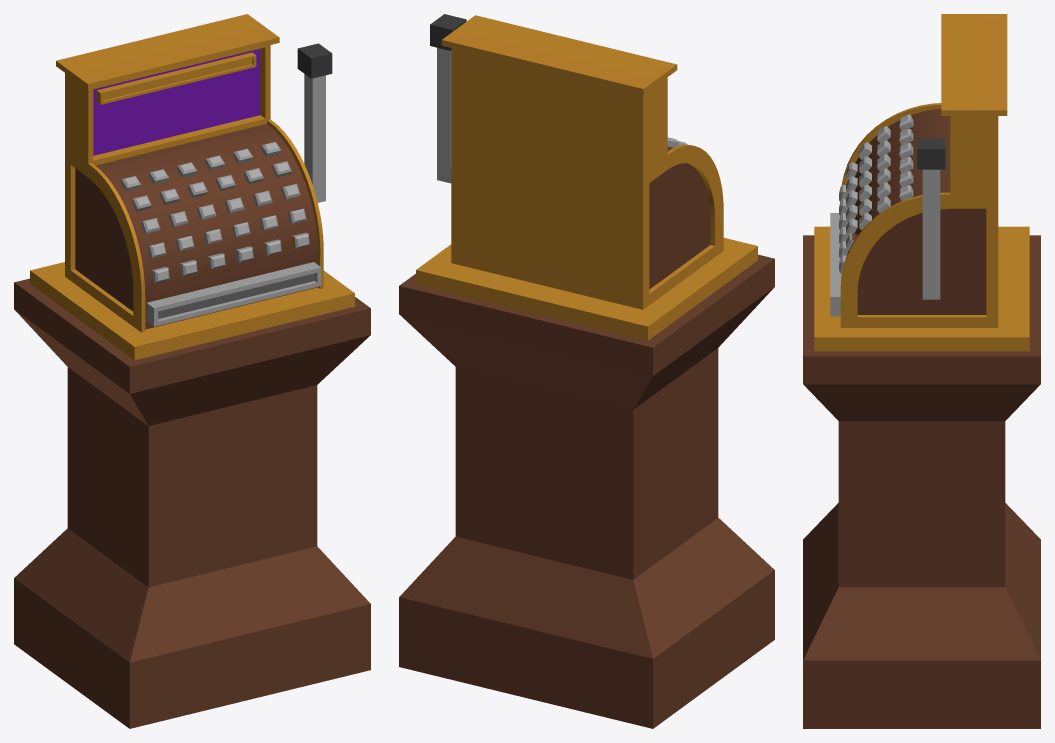
Rendered from MoneyMachine.fbx.
3 views of the same model, side by side, from view 1: azimuth 30°, elevation 25°; view 2: azimuth 150°, elevation 25°; view 3: azimuth 270°, elevation 25° (orthographic). The views are drawn at different scales.
Parts seen in each view (by area): view 1: Cube, Cube.001; view 2: Cube, Cube.001; view 3: Cube, Cube.001.
Boxes of the visible parts, x1,y1,x2,y2 form: Cube: (14, 14, 370, 728); Cube.001: (297, 43, 332, 202); Cube: (399, 15, 774, 728); Cube.001: (430, 14, 466, 183); Cube: (803, 14, 1040, 728); Cube.001: (917, 138, 945, 299).
Bounding box in the file's own units: 283 × 618 × 220.
